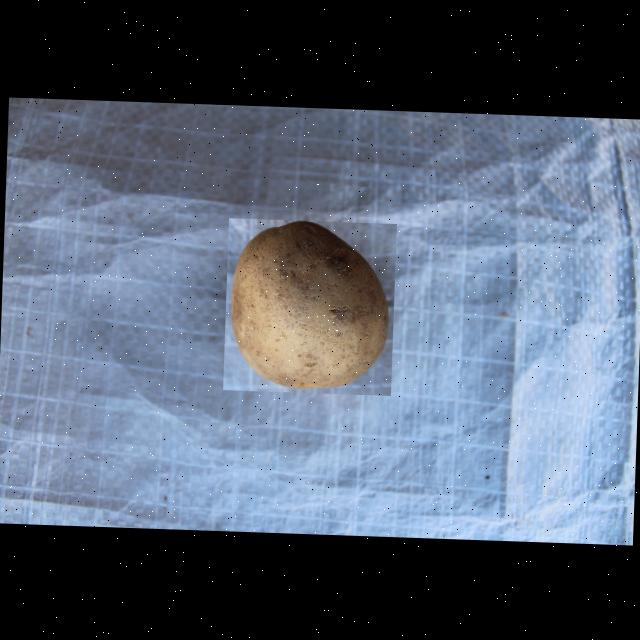Diseased-fungal potato: (222, 216, 396, 394)
